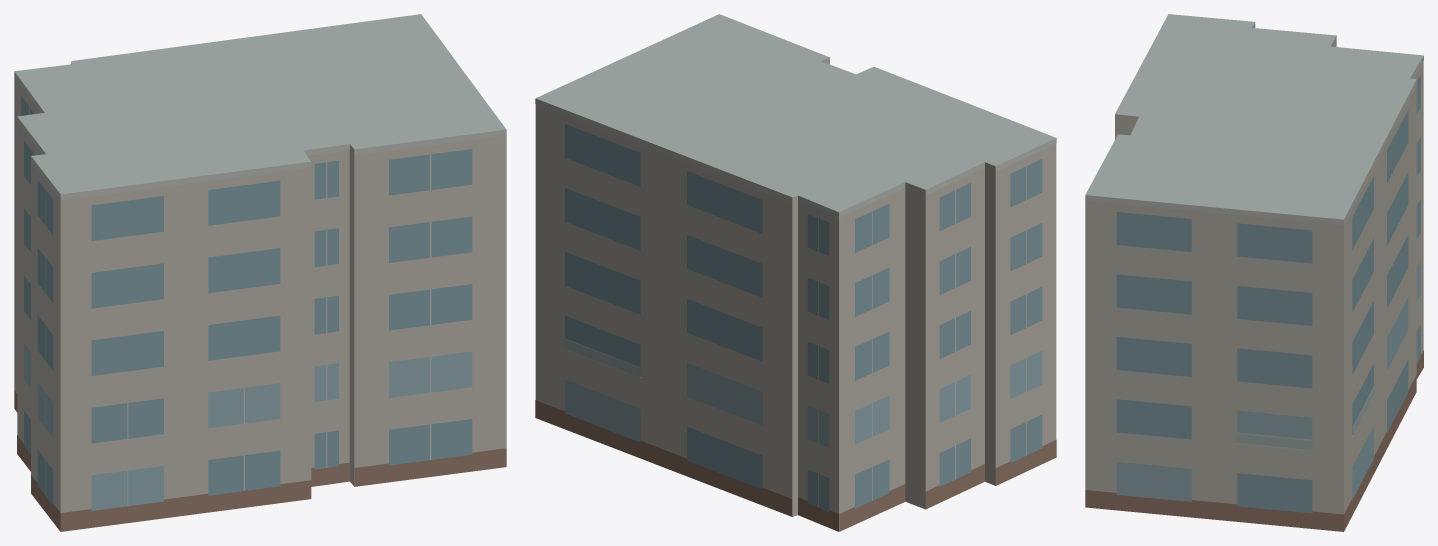
The model's file is survey-upis-32716458.glb.
3 views of the same model, side by side, from view 1: azimuth 30°, elevation 25°; view 2: azimuth 150°, elevation 25°; view 3: azimuth 270°, elevation 25° (orthographic). The views are drawn at different scales.
Visible parts, largest first — view 1: survey-upis-32716458.tmp; view 2: survey-upis-32716458.tmp; view 3: survey-upis-32716458.tmp.
Part boxes in pixels (box(x1,y1,x2,y2)): survey-upis-32716458.tmp: box(14, 14, 506, 531); survey-upis-32716458.tmp: box(535, 14, 1056, 531); survey-upis-32716458.tmp: box(1085, 14, 1423, 531).
Bounding box in the file's own units: 19.92 × 14.1 × 13.87.
